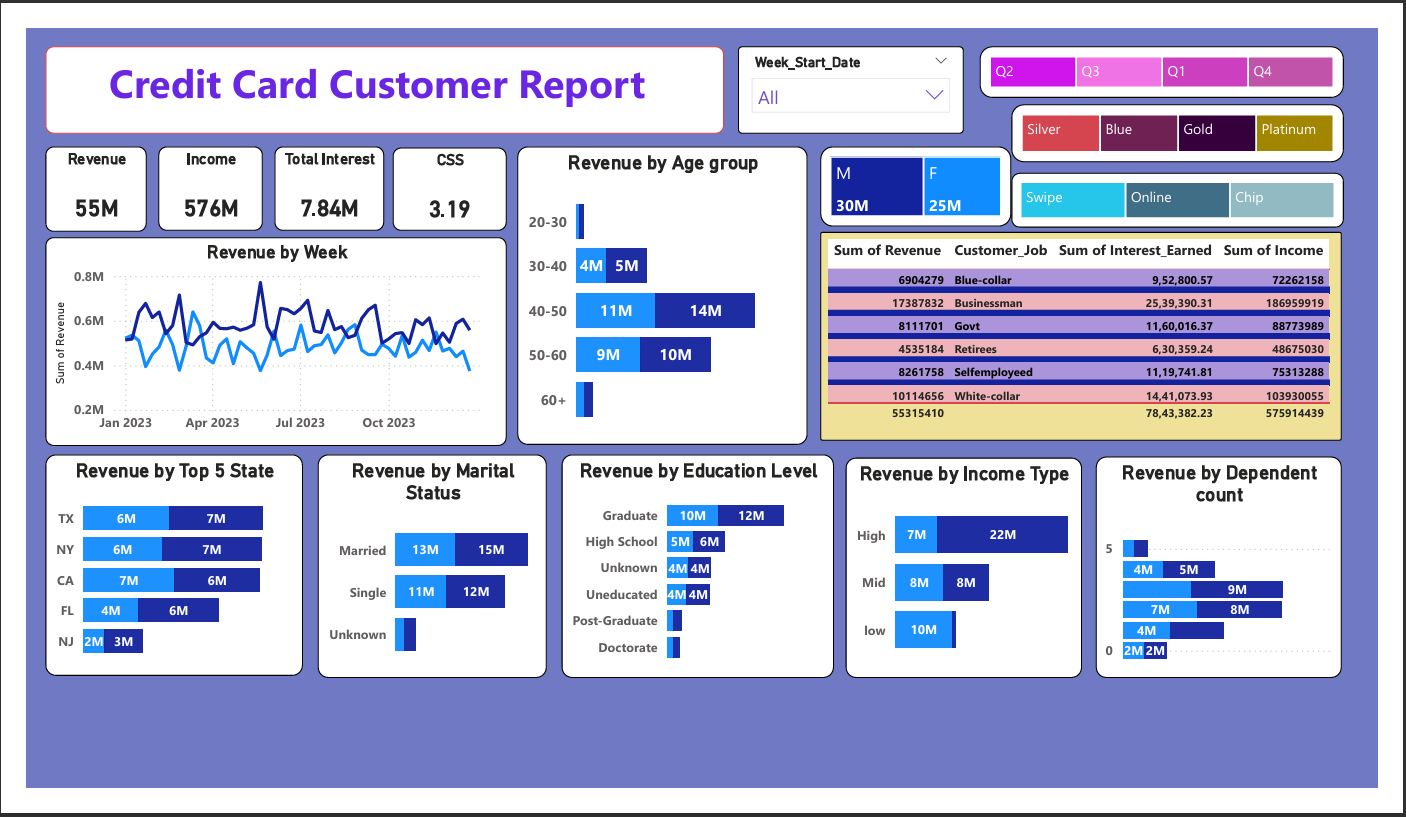

This screenshot's page, from the dashboard's own definition file:
{"tool":"powerbi","page":{"name":"CC Customer","canvas":[1280,720],"ordinal":2},"visuals":[{"type":"textbox","box":[18.1,17,642.6,83],"z":0},{"type":"tableEx","fields":{"Values":["Sum(credit_card.Revenue)","customer.Customer_Job","Sum(credit_card.Interest_Earned)","Sum(customer.Income)"]},"box":[752,193,494,198],"z":1000},{"type":"cardVisual","title":"Revenue","fields":{"Data":["Sum(credit_card.Revenue)"]},"box":[17.9,111.9,96.4,81],"z":2000},{"type":"cardVisual","title":"Income","fields":{"Data":["Sum(customer.Income)"]},"box":[125,111.9,98.8,79.8],"z":3000},{"type":"cardVisual","title":"Total Interest","fields":{"Data":["Sum(credit_card.Interest_Earned)"]},"box":[234.8,112,104.3,80.4],"z":4000},{"type":"cardVisual","title":"CSS","fields":{"Data":["Avg(customer.Cust_Satisfaction_Score)"]},"box":[346.7,113,108.7,79.3],"z":5000},{"type":"slicer","fields":{"Values":["credit_card.Week_Start_Date"]},"box":[674,17,214,83],"z":6000},{"type":"treemap","fields":{"Group":["credit_card.Qtr"],"Values":["CountNonNull(credit_card.Client_Num)"]},"box":[903,17,345,49],"z":7000},{"type":"treemap","fields":{"Values":["Avg(credit_card.Client_Num)"],"Group":["credit_card.Use Chip"]},"box":[933,137,315,52],"z":8000},{"type":"treemap","fields":{"Group":["credit_card.Card_Category"],"Values":["Avg(credit_card.Client_Num)"]},"box":[933,72,315,55],"z":9000},{"type":"lineChart","title":" Revenue by Week","fields":{"Y":["Sum(credit_card.Revenue)"],"Series":["customer.Gender"],"Category":["credit_card.Week_Start_Date.Variation.Date Hierarchy.Year","credit_card.Week_Start_Date.Variation.Date Hierarchy.Month","credit_card.Week_Start_Date.Variation.Date Hierarchy.Day"]},"box":[18.5,197.8,437,197.8],"z":10000},{"type":"treemap","fields":{"Group":["customer.Gender"],"Values":["Sum(credit_card.Revenue)"]},"box":[752,112,181,76],"z":11000},{"type":"barChart","title":" Revenue by Income Type","fields":{"Y":["Sum(credit_card.Revenue)"],"Category":["customer.IncomeGroup"],"Series":["customer.Gender"]},"box":[776,407,224,209],"z":12000},{"type":"barChart","title":" Revenue by Age group","fields":{"Y":["Sum(credit_card.Revenue)"],"Category":["customer.AgeGroup"],"Series":["customer.Gender"]},"box":[465,112,275,283],"z":13000},{"type":"barChart","title":" Revenue by Dependent count","fields":{"Y":["Sum(credit_card.Revenue)"],"Category":["customer.Dependent_Count"],"Series":["customer.Gender"]},"box":[1013,406,233,210],"z":14000},{"type":"barChart","title":" Revenue by  Education Level","fields":{"Y":["Sum(credit_card.Revenue)"],"Category":["customer.Education_Level"],"Series":["customer.Gender"]},"box":[507,404,258,212],"z":15000},{"type":"barChart","title":" Revenue by Top  5 State ","fields":{"Y":["Sum(credit_card.Revenue)"],"Category":["customer.state_cd"],"Series":["customer.Gender"]},"box":[18.1,404.3,243.6,209.6],"z":16000},{"type":"barChart","title":" Revenue by Marital Status","fields":{"Y":["Sum(credit_card.Revenue)"],"Category":["customer.Marital_Status"],"Series":["customer.Gender"]},"box":[275.5,404.3,217,211.7],"z":17000}]}

Visuals, with their boxes on the page's 1280x720 design canvas (x1, y1, x2, y2). These are canvas units, not pixel positions in the 1406x817 screenshot, which may show the page scaled, cropped or inside an application window:
textbox: <region>18, 17, 661, 100</region>
tableEx - Sum(credit_card.Revenue) x customer.Customer_Job: <region>752, 193, 1246, 391</region>
"Revenue" cardVisual: <region>18, 112, 114, 193</region>
"Income" cardVisual: <region>125, 112, 224, 192</region>
"Total Interest" cardVisual: <region>235, 112, 339, 192</region>
"CSS" cardVisual: <region>347, 113, 455, 192</region>
slicer - credit_card.Week_Start_Date: <region>674, 17, 888, 100</region>
treemap - credit_card.Qtr x CountNonNull(credit_card.Client_Num): <region>903, 17, 1248, 66</region>
treemap - Avg(credit_card.Client_Num) x credit_card.Use Chip: <region>933, 137, 1248, 189</region>
treemap - credit_card.Card_Category x Avg(credit_card.Client_Num): <region>933, 72, 1248, 127</region>
" Revenue by Week" lineChart: <region>18, 198, 456, 396</region>
treemap - customer.Gender x Sum(credit_card.Revenue): <region>752, 112, 933, 188</region>
" Revenue by Income Type" barChart: <region>776, 407, 1000, 616</region>
" Revenue by Age group" barChart: <region>465, 112, 740, 395</region>
" Revenue by Dependent count" barChart: <region>1013, 406, 1246, 616</region>
" Revenue by  Education Level" barChart: <region>507, 404, 765, 616</region>
" Revenue by Top  5 State " barChart: <region>18, 404, 262, 614</region>
" Revenue by Marital Status" barChart: <region>276, 404, 492, 616</region>
